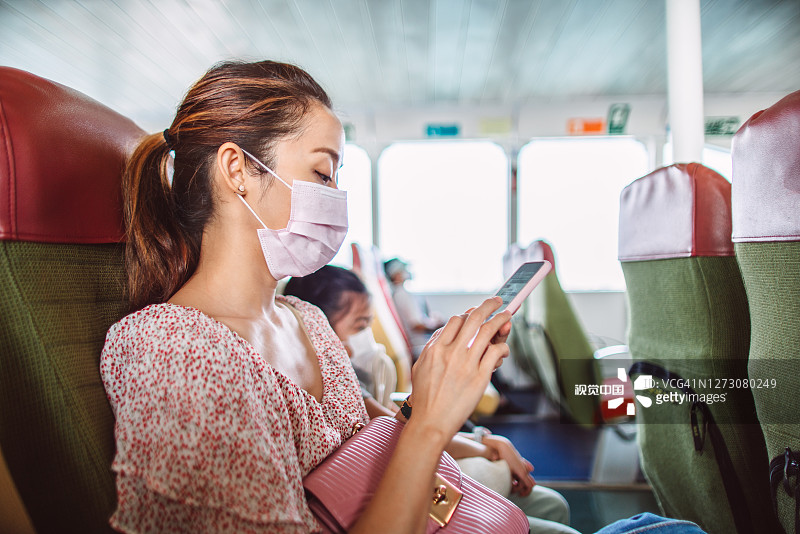reading: (395, 252, 535, 460)
